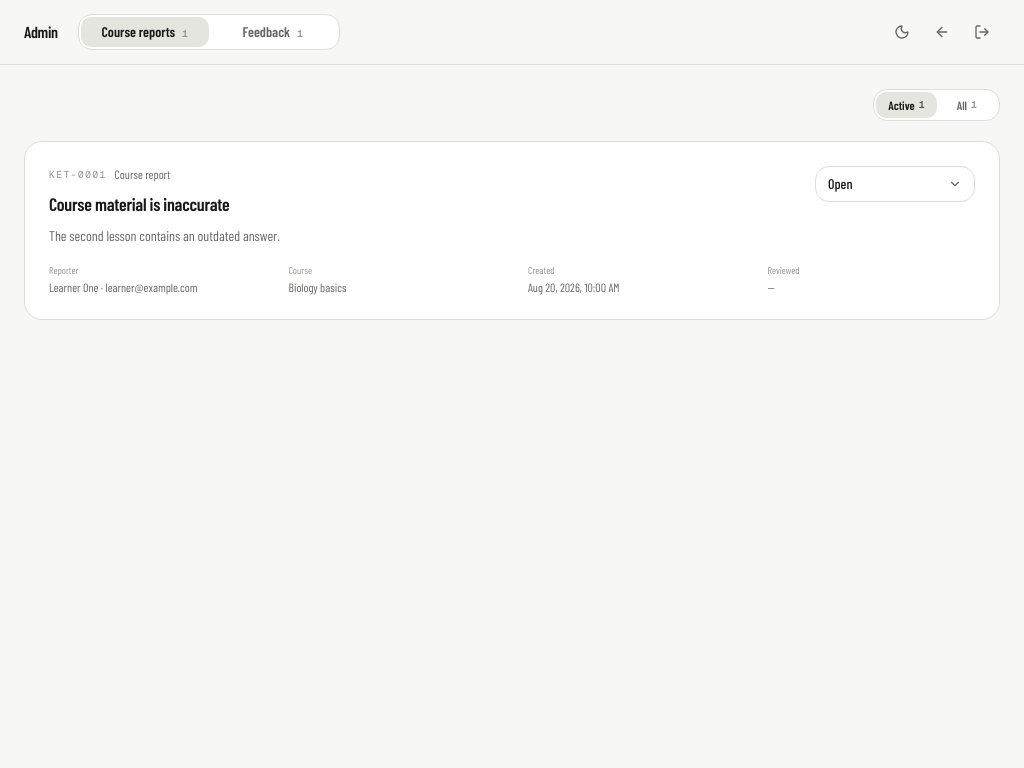
Test: AdminTicketsClient › switches between persisted monochrome light and dark modes
The image size is (1024, 768).
What coordinates should you click on to do the following:
click the button named "Switch to dark mode"
I would click on:
 (902, 32)
Its box is x1=884 y1=14 x2=920 y2=50.
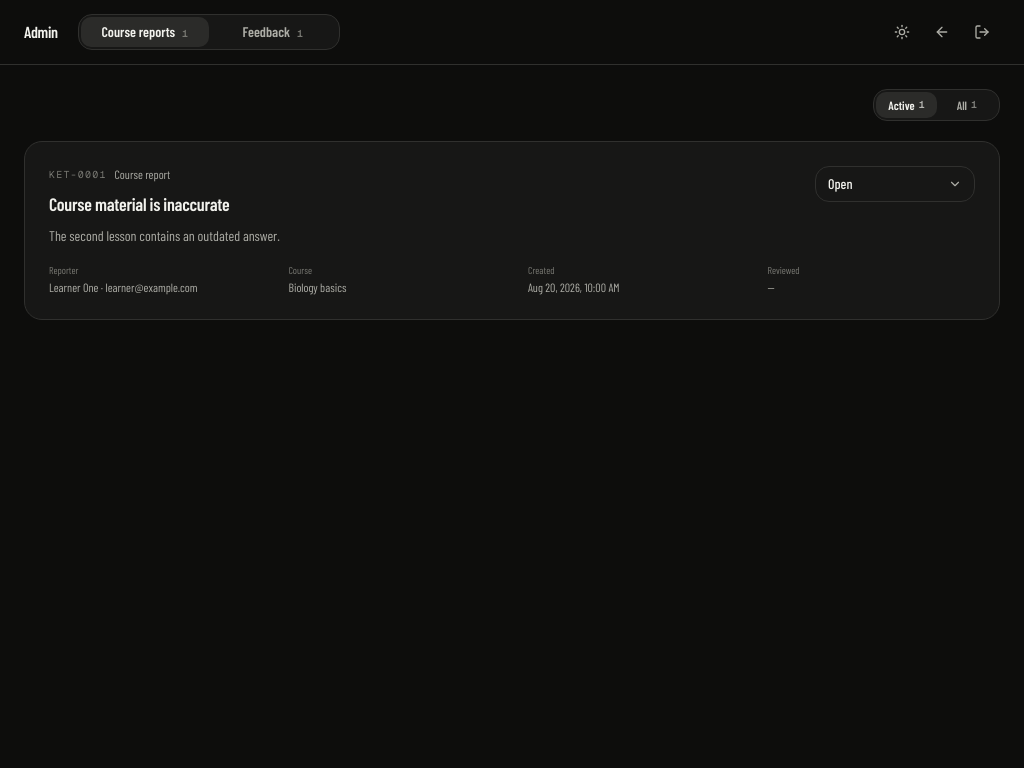
Expected: the button named "Switch to light mode" is shown, x1=884 y1=14 x2=920 y2=50
